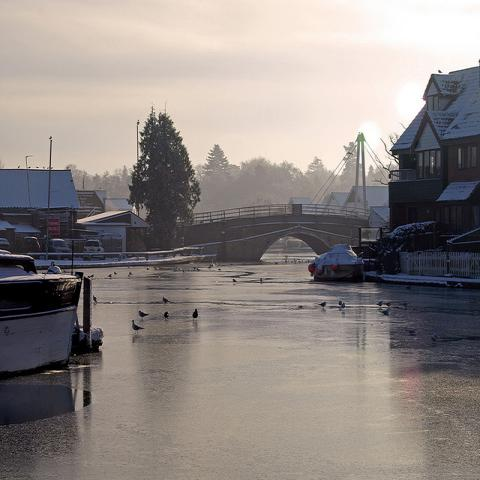car: (82, 239, 106, 261), (48, 238, 72, 260), (22, 236, 40, 259), (1, 237, 11, 252)
